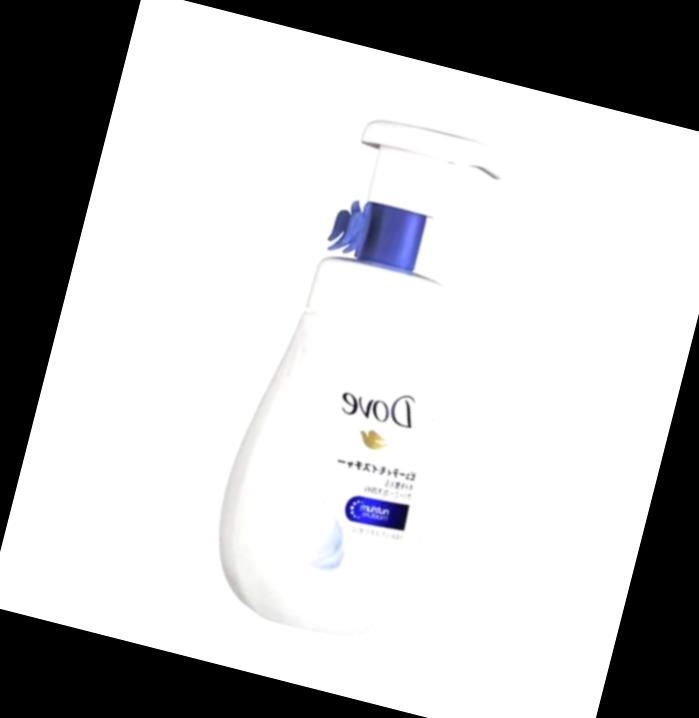cosmetic: (190, 97, 525, 658)
